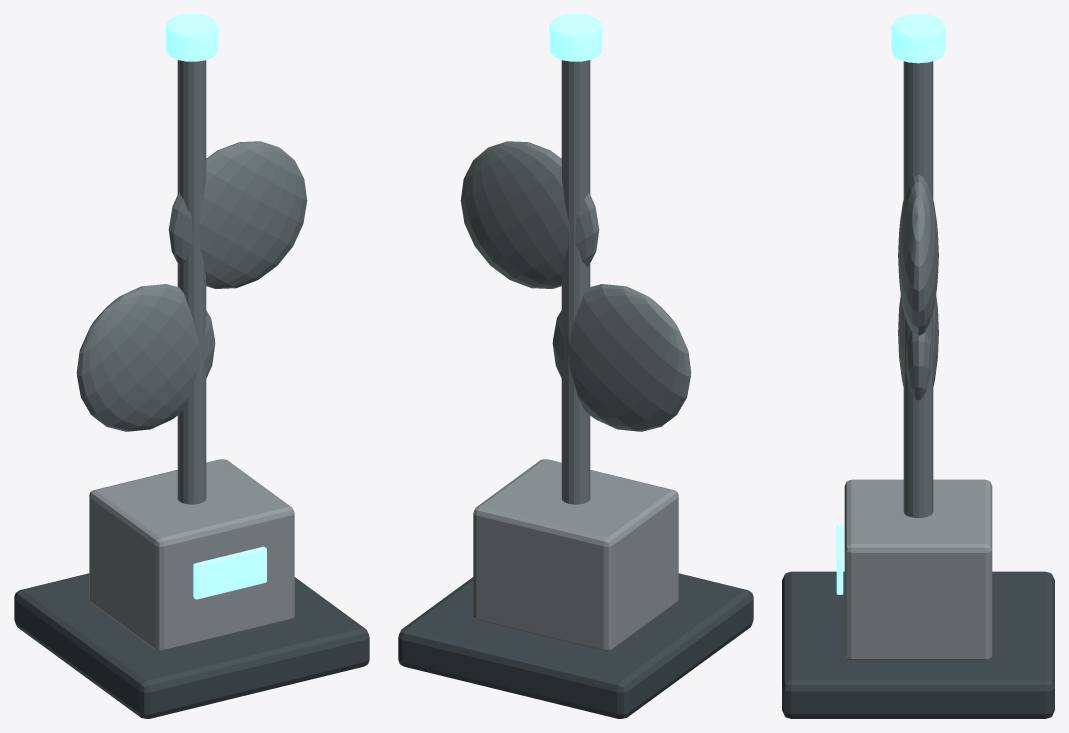
File: RelayAntenna_A.fbx
The picture shows the model from 3 angles, left to right: view 1: azimuth 30°, elevation 25°; view 2: azimuth 150°, elevation 25°; view 3: azimuth 270°, elevation 25°; orthographic projection. The views are drawn at different scales.
Parts seen in each view (by area): view 1: Relay Cabinet, Relay Base, Relay Dish, Relay Dish.001, Relay Mast, Relay Screen, Relay Beacon; view 2: Relay Cabinet, Relay Base, Relay Dish, Relay Dish.001, Relay Mast, Relay Beacon; view 3: Relay Base, Relay Cabinet, Relay Mast, Relay Dish.001, Relay Beacon, Relay Dish, Relay Screen.
Part boxes in pixels (x1,y1,x2,y2): Relay Cabinet: (89,459,294,651); Relay Base: (14,573,369,718); Relay Dish: (76,284,215,431); Relay Dish.001: (168,141,307,288); Relay Mast: (177,60,206,504); Relay Screen: (193,546,266,599); Relay Beacon: (165,14,218,61); Relay Cabinet: (473,459,678,651); Relay Base: (398,573,753,718); Relay Dish: (552,284,691,431); Relay Dish.001: (460,141,599,288); Relay Mast: (561,60,590,504); Relay Beacon: (549,14,602,61); Relay Base: (782,571,1054,718); Relay Cabinet: (844,479,992,660); Relay Mast: (903,61,933,517); Relay Dish.001: (898,174,938,335); Relay Beacon: (891,14,945,63); Relay Dish: (898,294,938,400); Relay Screen: (836,524,843,594).
Bounding box in the file's own units: 2.4 × 6.22 × 2.4.
